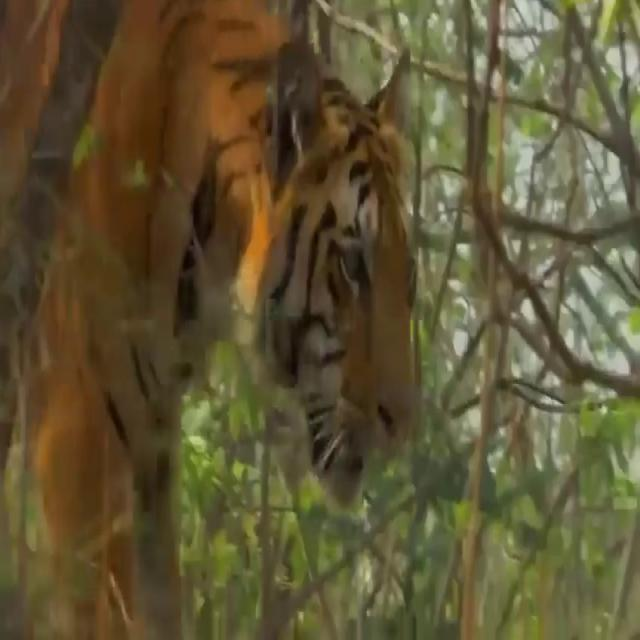tiger: (3, 5, 421, 637)
